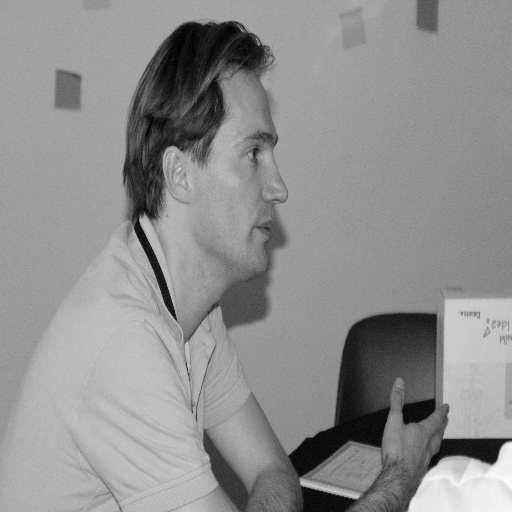hand: (381, 376, 451, 491)
